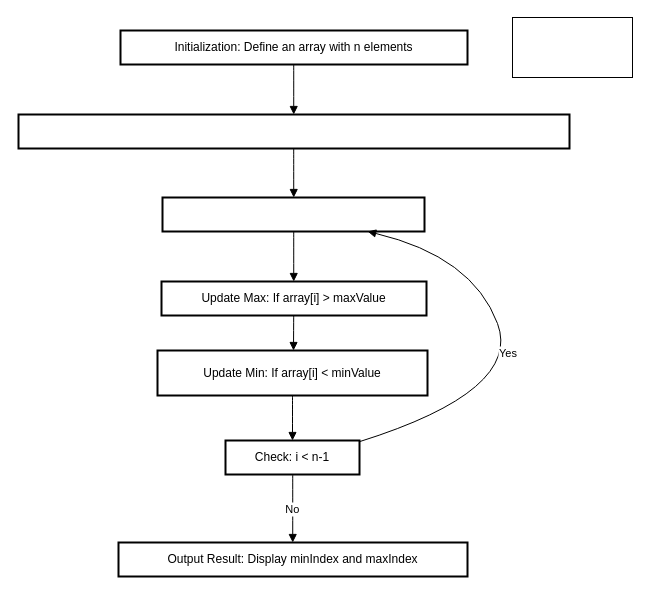
This 650x595 diagram has some shape labels left out. Each missing label, with the box of its shape:
16 Min&Max index: (512, 16, 632, 78)
Initialize Min and Max Variables: minValue, maxValue, minIndex, maxIndex: (17, 113, 570, 149)
Loop Through Array: For i=1 to n-1: (161, 196, 425, 232)
